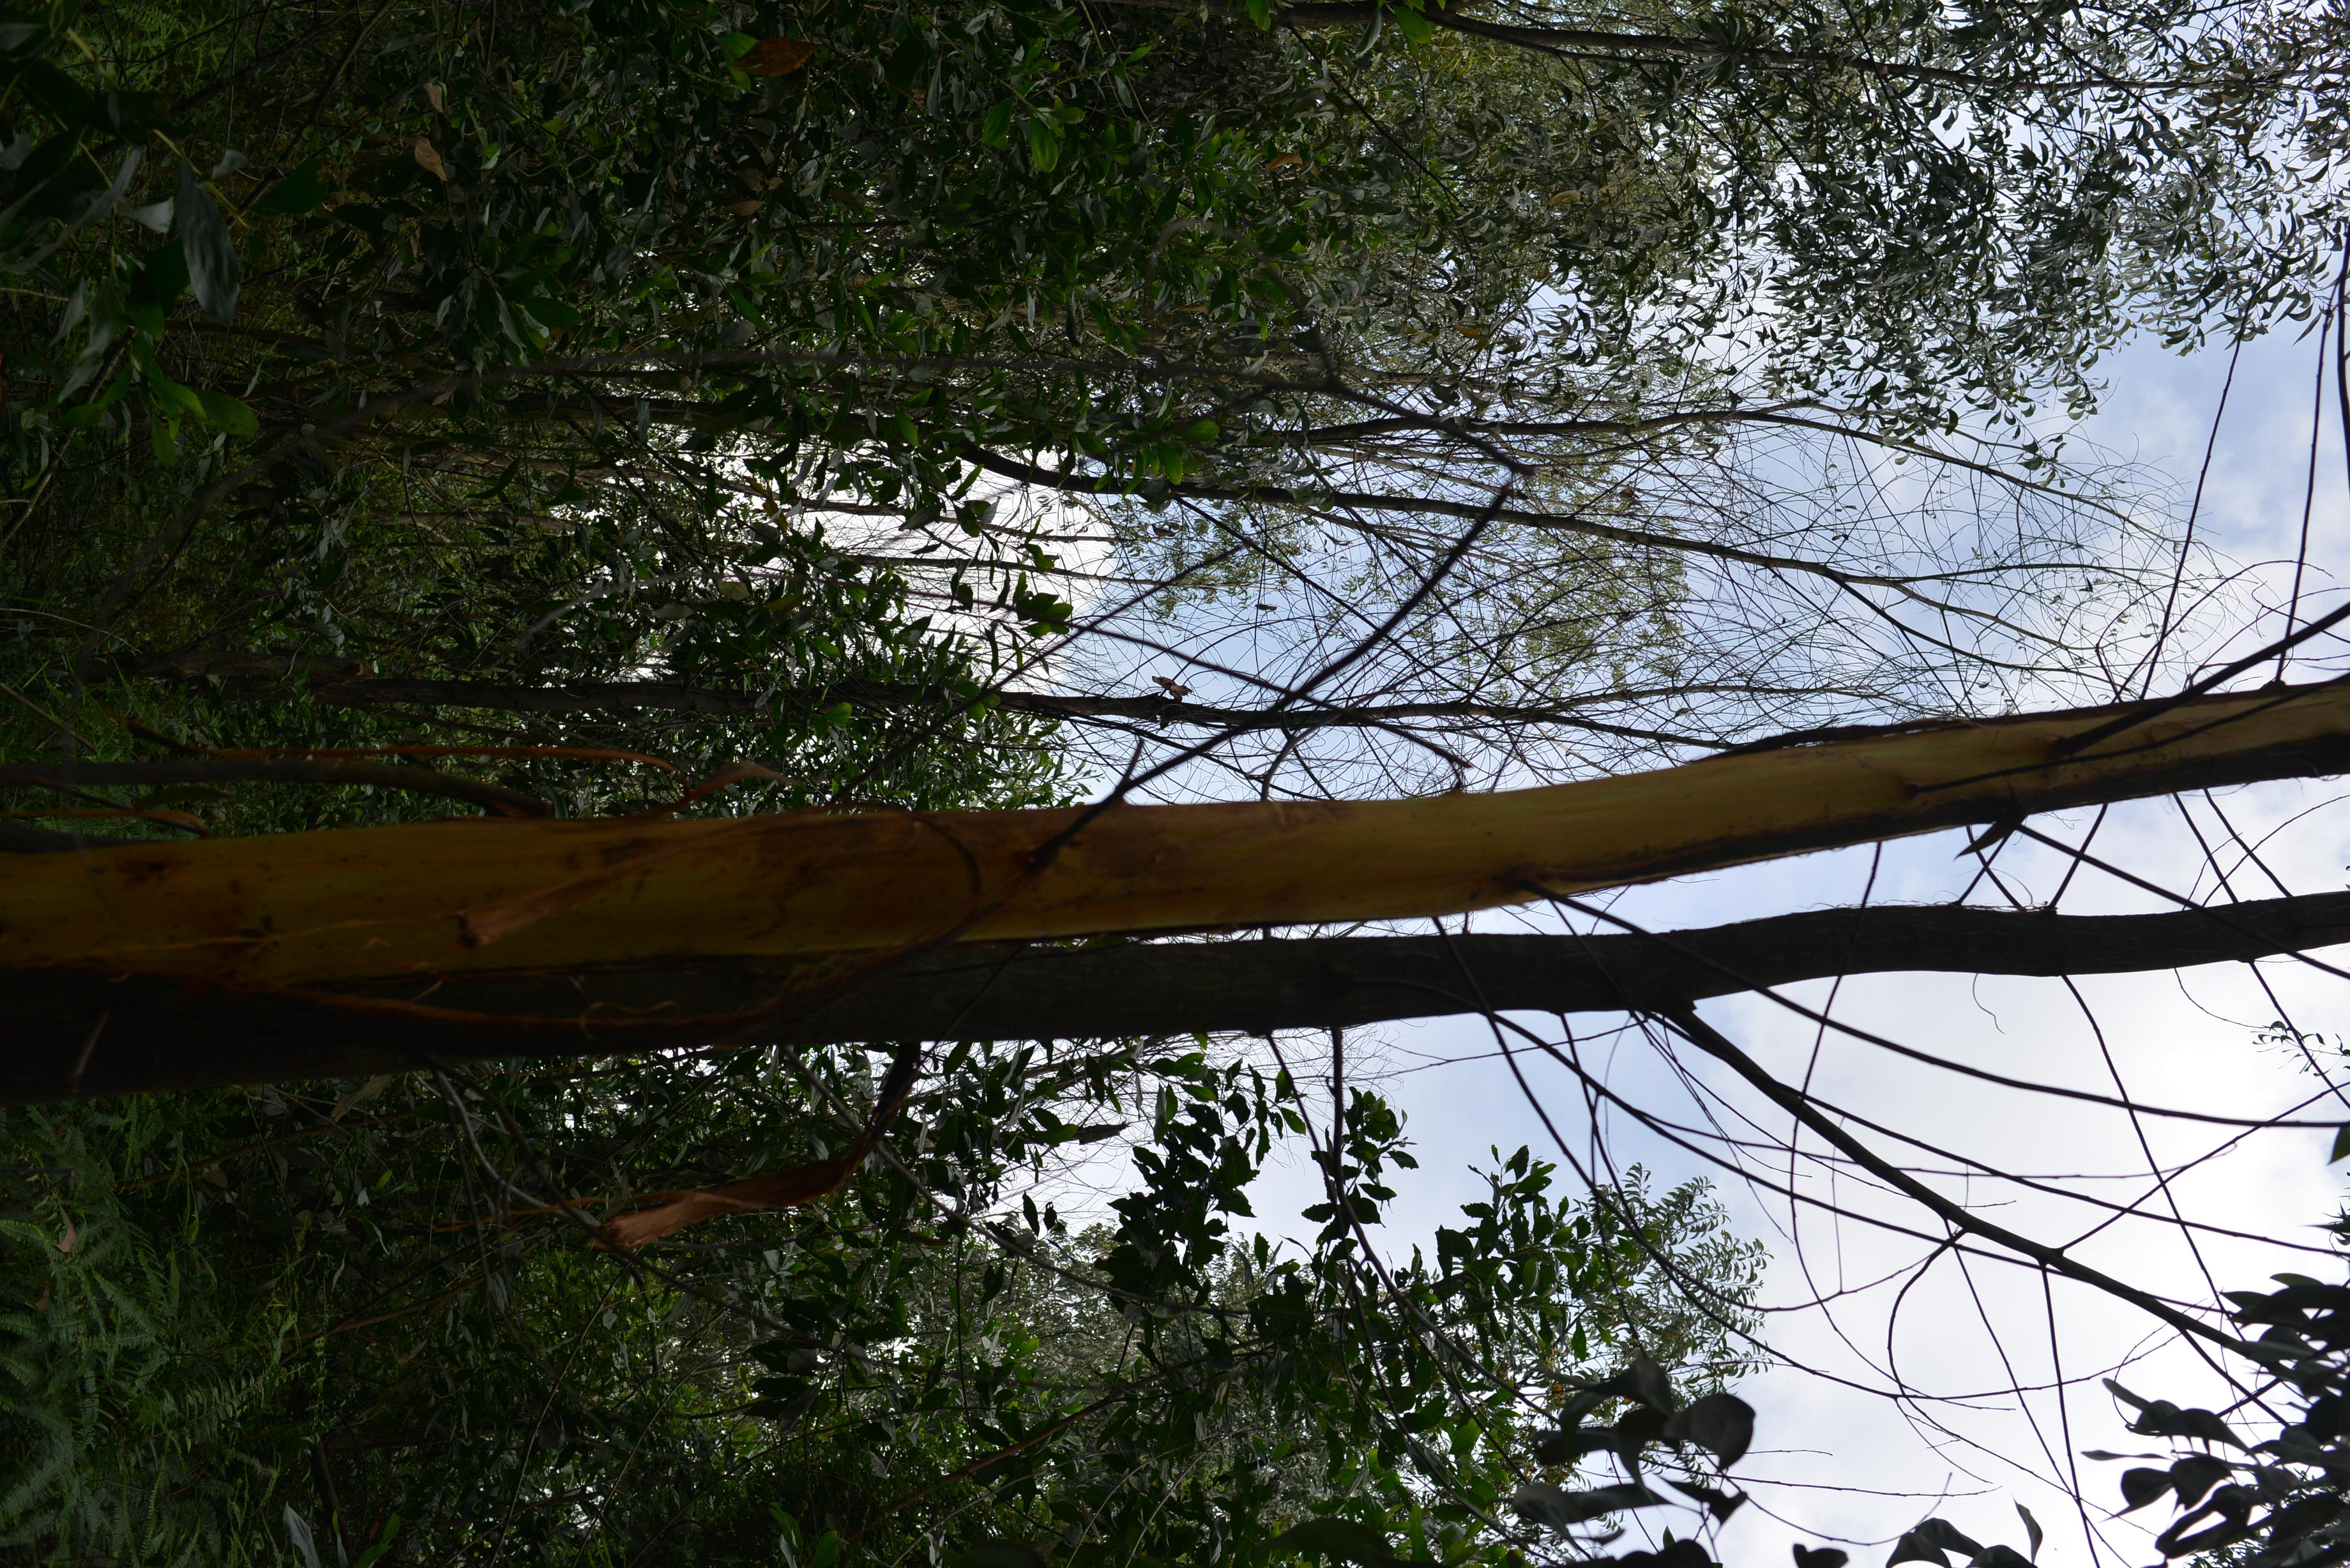Mammals Attack: (14, 688, 2350, 968)
